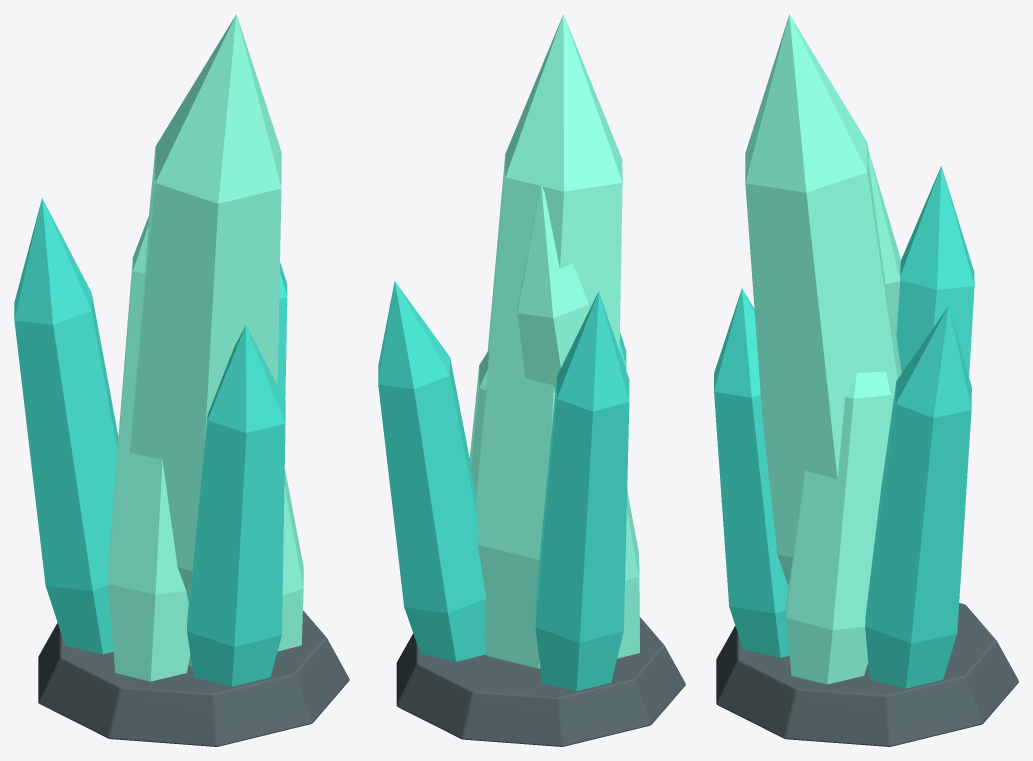
File: crystal_tree.glb
3 views of the same model, side by side, from view 1: azimuth 30°, elevation 25°; view 2: azimuth 150°, elevation 25°; view 3: azimuth 270°, elevation 25° (orthographic). The views are drawn at different scales.
Parts seen in each view (by area): view 1: Growth crystal, Growth crystal.005, Growth crystal.003, Crystal bedrock, Growth crystal.004, Growth crystal.002, Growth crystal.001; view 2: Growth crystal, Growth crystal.005, Growth crystal.001, Crystal bedrock, Growth crystal.004, Growth crystal.002; view 3: Growth crystal, Growth crystal.001, Crystal bedrock, Growth crystal.002, Growth crystal.003, Growth crystal.005, Growth crystal.004.
Boxes of the visible parts, box(x1,y1,x2,y2) form: Growth crystal: box(129, 14, 281, 666); Growth crystal.005: box(14, 198, 118, 654); Growth crystal.003: box(187, 325, 285, 686); Crystal bedrock: box(38, 610, 349, 746); Growth crystal.004: box(108, 217, 190, 681); Growth crystal.002: box(277, 468, 303, 651); Growth crystal.001: box(277, 262, 287, 399); Growth crystal: box(476, 14, 622, 668); Growth crystal.005: box(535, 291, 629, 691); Growth crystal.001: box(378, 281, 486, 661); Crystal bedrock: box(396, 617, 685, 746); Growth crystal.004: box(517, 185, 639, 658); Growth crystal.002: box(469, 351, 488, 495); Growth crystal: box(745, 14, 901, 664); Growth crystal.001: box(865, 306, 971, 688); Crystal bedrock: box(716, 603, 1018, 746); Growth crystal.002: box(786, 371, 891, 684); Growth crystal.003: box(714, 288, 789, 657); Growth crystal.005: box(896, 166, 974, 375); Growth crystal.004: box(867, 151, 900, 344).
Bounding box in the file's own units: 1.96 × 4.73 × 1.94.
